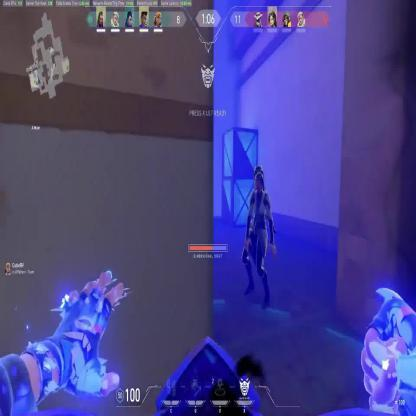enemy: (240, 163, 278, 312)
enemy_head: (252, 165, 266, 194)
